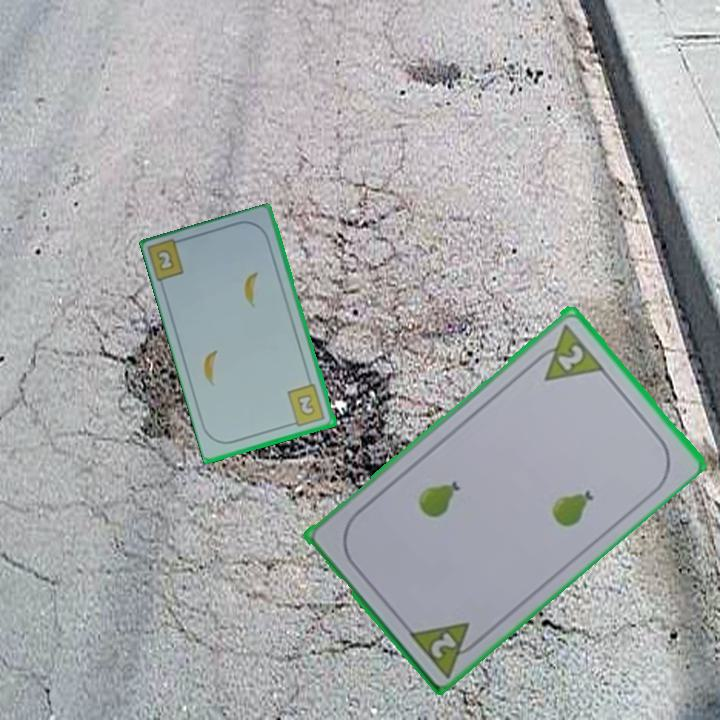2b: (284, 381, 328, 430), (155, 248, 178, 274)
2p: (527, 319, 606, 384), (404, 617, 486, 679)
